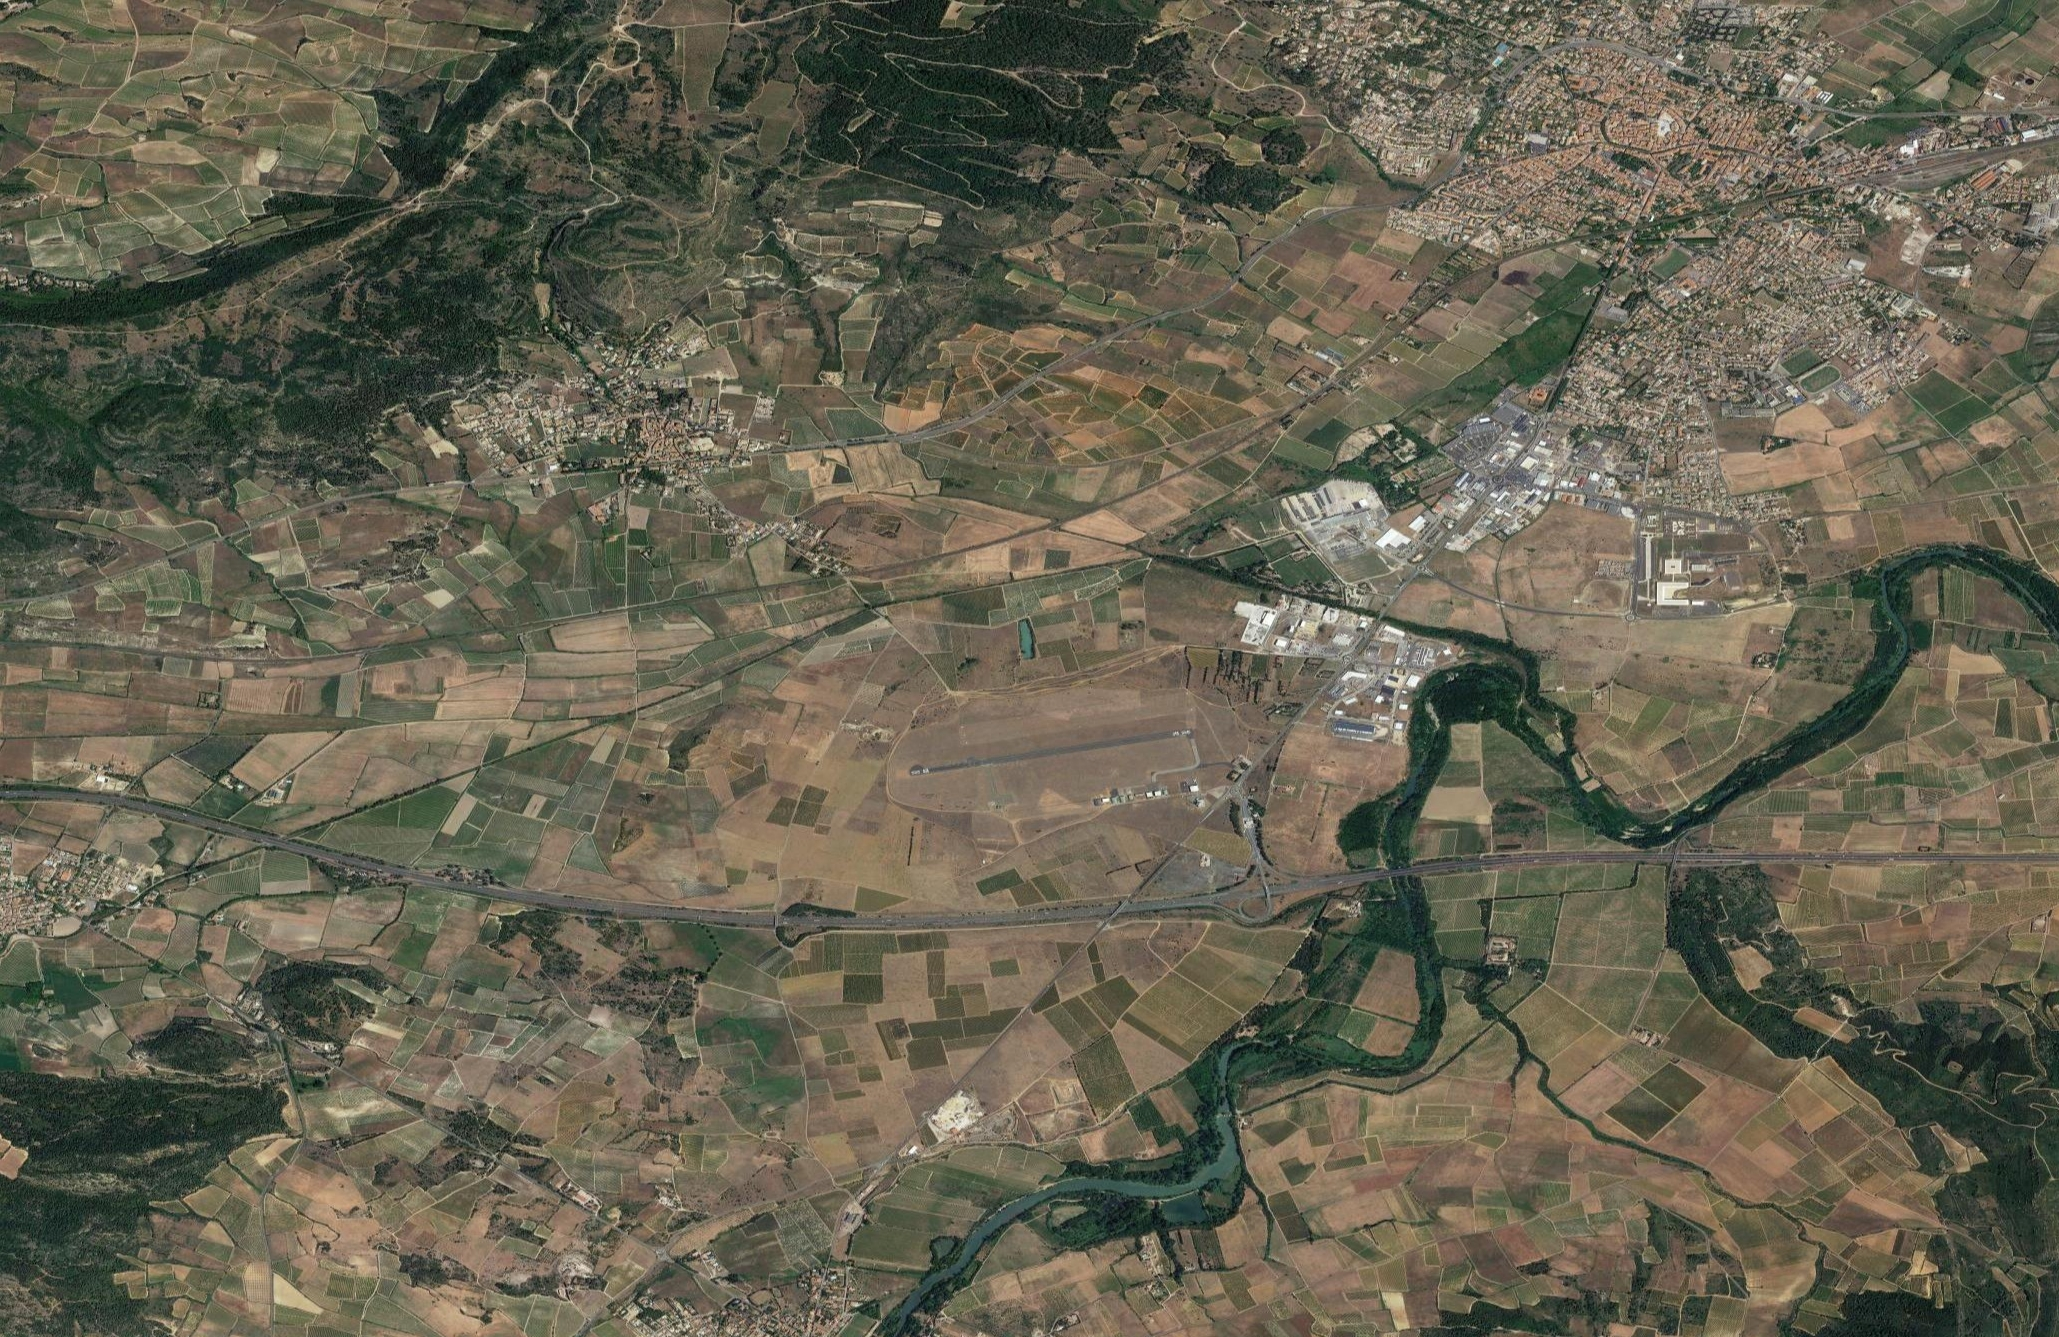airport: (908, 726, 1207, 810)
motorway: (152, 801, 338, 857), (1682, 849, 2059, 872), (1126, 876, 1325, 914), (339, 851, 500, 897), (1325, 855, 1495, 894), (498, 885, 684, 920), (906, 903, 1124, 932), (2, 783, 155, 819), (687, 903, 908, 927), (1495, 851, 1679, 870)
